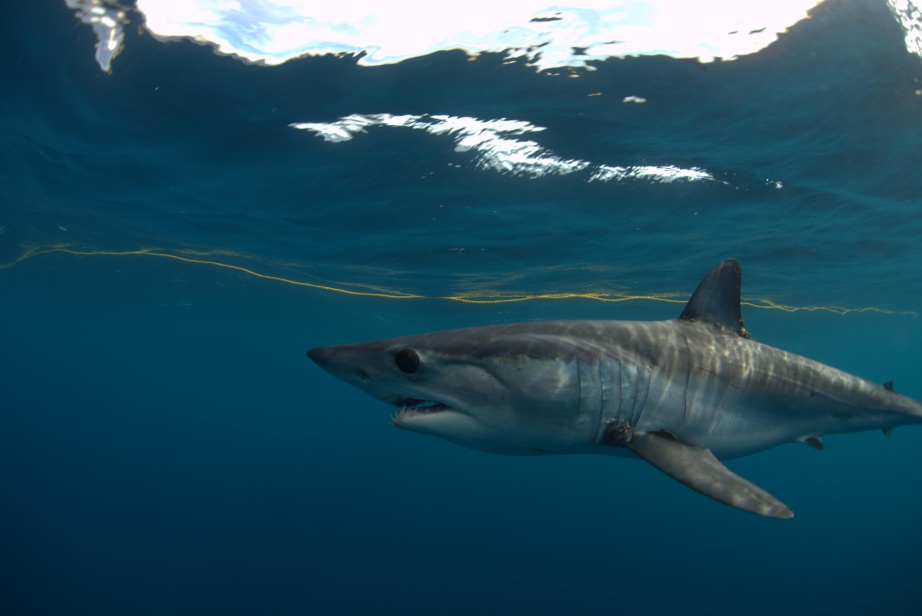Mako: (292, 253, 922, 528)
